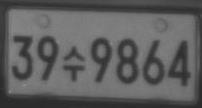3: (12, 34, 34, 81)
4: (166, 39, 191, 87)
6: (141, 39, 165, 85)
8: (115, 37, 139, 84)
9: (90, 37, 113, 82), (37, 35, 59, 82)
수: (62, 45, 86, 83)
